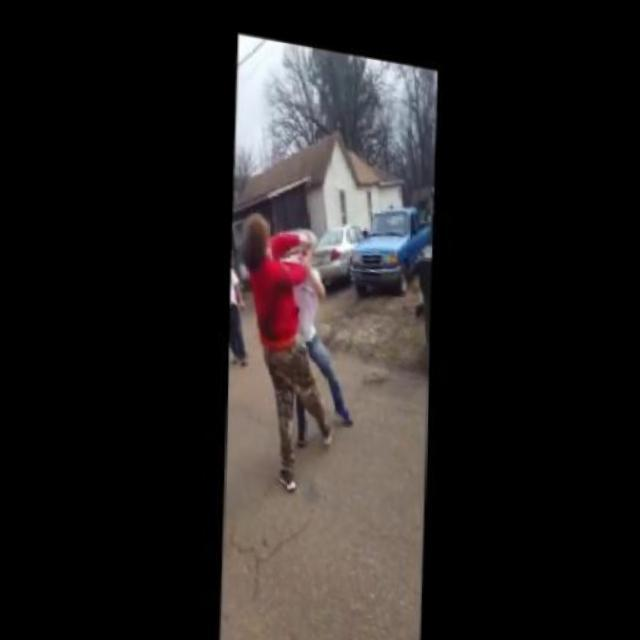fight: (228, 200, 363, 493)
